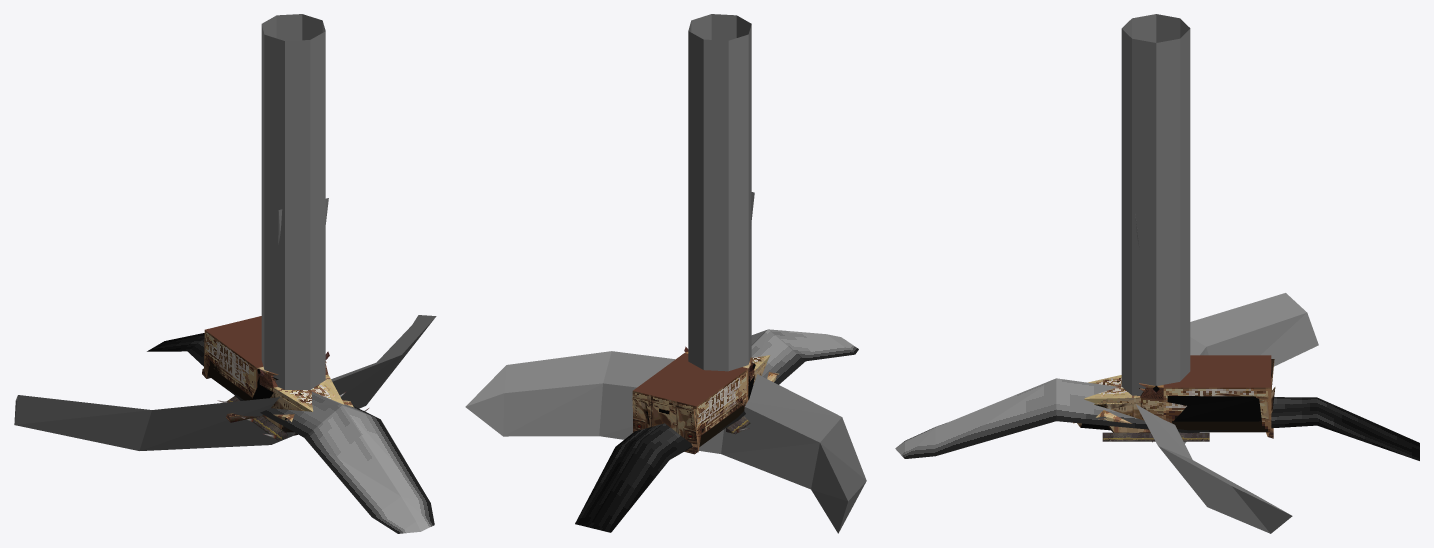
The model's file is v82_goliath_halftrack.obj.
3 views of the same model, side by side, from view 1: azimuth 30°, elevation 25°; view 2: azimuth 150°, elevation 25°; view 3: azimuth 270°, elevation 25° (orthographic). The views are drawn at different scales.
Visible parts, largest first — view 1: v82_goliath_halftrack_tmd_034, v82_goliath_halftrack_tmd_031, v82_goliath_halftrack_tmd_032, v82_goliath_halftrack_tmd_019, v82_goliath_halftrack_tmd_021, v82_goliath_halftrack_tmd_028; view 2: v82_goliath_halftrack_tmd_031, v82_goliath_halftrack_tmd_034, v82_goliath_halftrack_tmd_032, v82_goliath_halftrack_tmd_019, v82_goliath_halftrack_tmd_021, v82_goliath_halftrack_tmd_020; view 3: v82_goliath_halftrack_tmd_034, v82_goliath_halftrack_tmd_032, v82_goliath_halftrack_tmd_031, v82_goliath_halftrack_tmd_019, v82_goliath_halftrack_tmd_030, v82_goliath_halftrack_tmd_028.
Part boxes in pixels (x1=…): v82_goliath_halftrack_tmd_034: x1=261, y1=14, x2=325, y2=389; v82_goliath_halftrack_tmd_031: x1=14, y1=315, x2=436, y2=450; v82_goliath_halftrack_tmd_032: x1=147, y1=333, x2=434, y2=533; v82_goliath_halftrack_tmd_019: x1=204, y1=316, x2=353, y2=429; v82_goliath_halftrack_tmd_021: x1=202, y1=339, x2=252, y2=397; v82_goliath_halftrack_tmd_028: x1=217, y1=391, x2=368, y2=440; v82_goliath_halftrack_tmd_031: x1=465, y1=351, x2=866, y2=533; v82_goliath_halftrack_tmd_034: x1=688, y1=14, x2=751, y2=371; v82_goliath_halftrack_tmd_032: x1=575, y1=329, x2=858, y2=532; v82_goliath_halftrack_tmd_019: x1=632, y1=352, x2=778, y2=446; v82_goliath_halftrack_tmd_021: x1=632, y1=397, x2=743, y2=452; v82_goliath_halftrack_tmd_020: x1=633, y1=396, x2=697, y2=454; v82_goliath_halftrack_tmd_034: x1=1121, y1=14, x2=1190, y2=395; v82_goliath_halftrack_tmd_032: x1=895, y1=378, x2=1419, y2=460; v82_goliath_halftrack_tmd_031: x1=1136, y1=293, x2=1318, y2=533; v82_goliath_halftrack_tmd_019: x1=1084, y1=355, x2=1271, y2=432; v82_goliath_halftrack_tmd_030: x1=1080, y1=359, x2=1273, y2=432; v82_goliath_halftrack_tmd_028: x1=1102, y1=432, x2=1209, y2=441.
Size of the model in its own units: 3.99 by 3.98 by 4.39.
44 materials, 39 textured.
